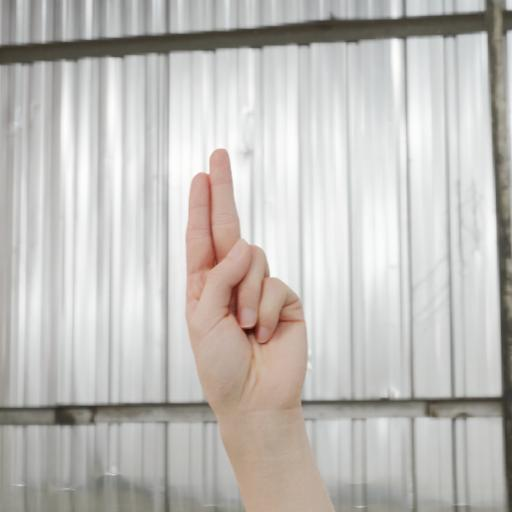U: (186, 144, 312, 414)
